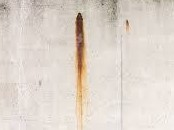Corrosion: (74, 12, 86, 130), (124, 17, 132, 33)
